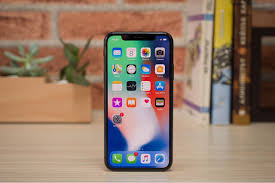iphone: (101, 30, 175, 171)
iphone10: (101, 31, 175, 172)
